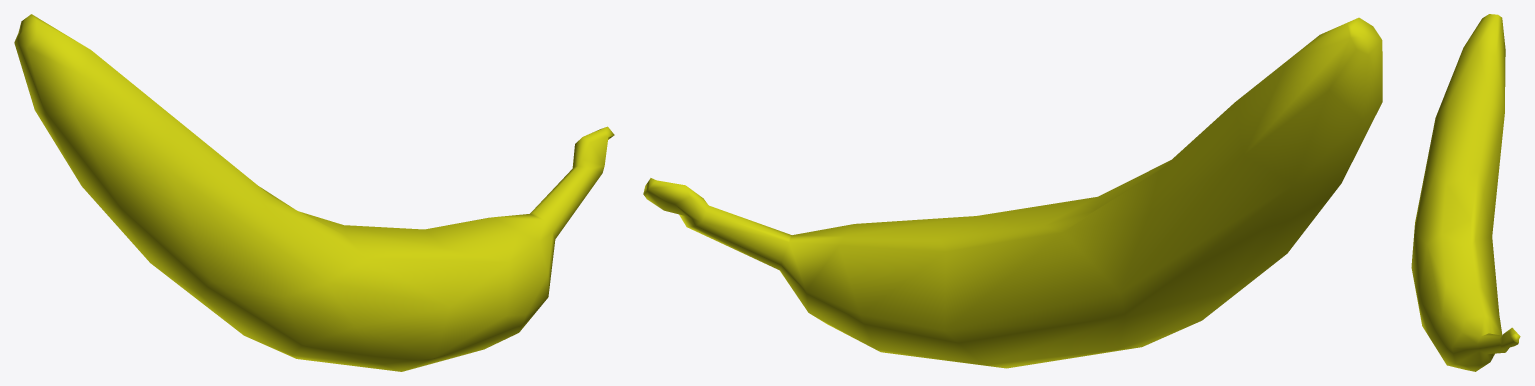
File: VIS_Obj_3_Banana.dae
3 renders of one model, left to right at view 1: azimuth 30°, elevation 25°; view 2: azimuth 150°, elevation 25°; view 3: azimuth 270°, elevation 25°, orthographic. The views are drawn at different scales.
Parts seen in each view (by area): view 1: VIS_Obj_3_Banana; view 2: VIS_Obj_3_Banana; view 3: VIS_Obj_3_Banana.
Boxes of the visible parts, x1,y1,x2,y2 form: VIS_Obj_3_Banana: [14, 14, 614, 371]; VIS_Obj_3_Banana: [643, 17, 1382, 368]; VIS_Obj_3_Banana: [1411, 14, 1520, 371].
Size of the model in its own units: 1.72 by 0.4591 by 1.09.
